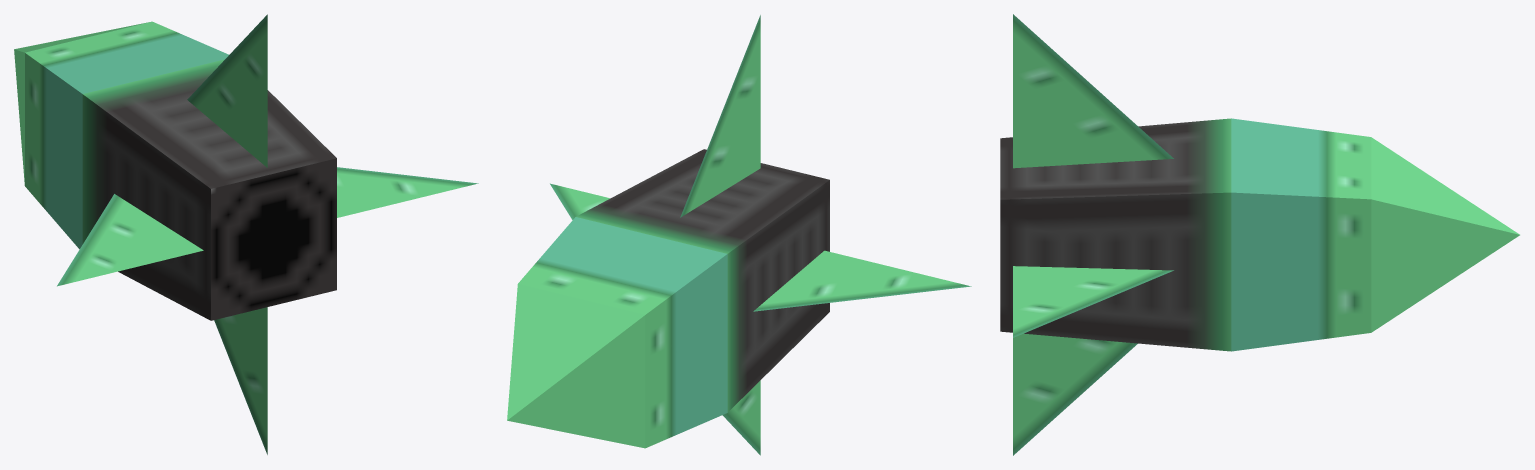
The model's file is torpedo.fbx.
3 views of the same model, side by side, from view 1: azimuth 30°, elevation 25°; view 2: azimuth 150°, elevation 25°; view 3: azimuth 270°, elevation 25° (orthographic).
Parts seen in each view (by area): view 1: Cube.001; view 2: Cube.001; view 3: Cube.001.
Boxes of the visible parts, x1=… form: Cube.001: x1=14, y1=14, x2=478, y2=454; Cube.001: x1=507, y1=15, x2=971, y2=455; Cube.001: x1=1000, y1=14, x2=1519, y2=455.
Bounding box in the file's own units: 59.1 × 59.1 × 63.02.
